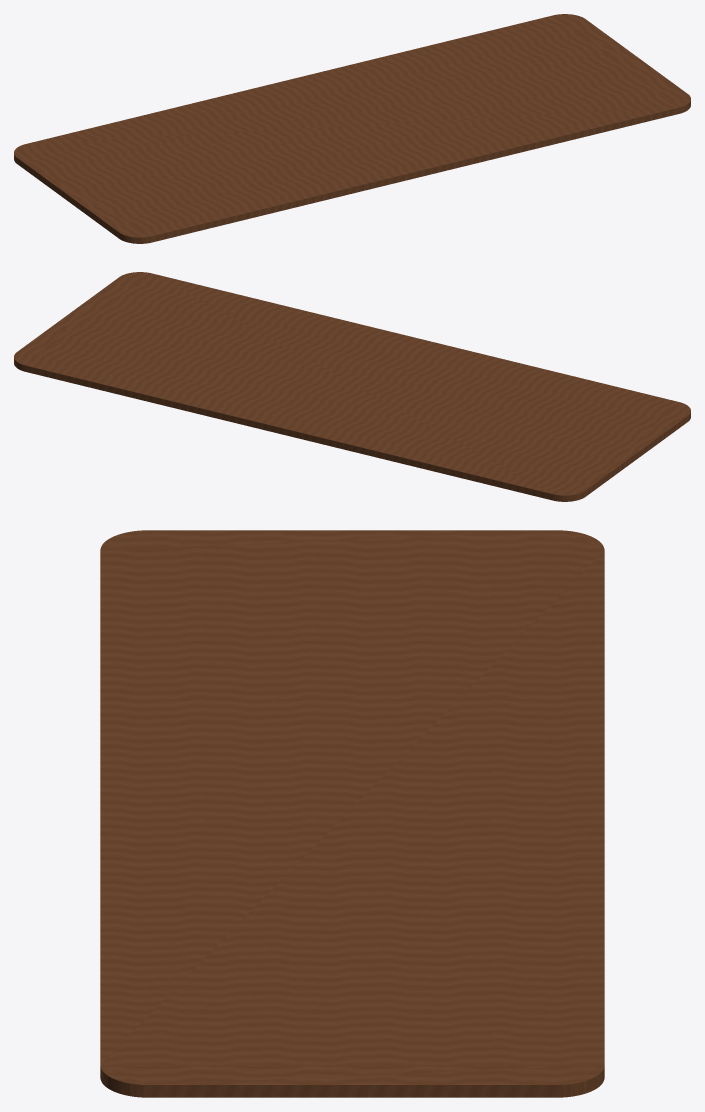
The model's file is QUIET_RETAINED_CANOPY_RAISE_r001.glb.
3 renders of one model, top to bottom at view 1: azimuth 30°, elevation 25°; view 2: azimuth 150°, elevation 25°; view 3: azimuth 270°, elevation 25°, orthographic. The views are drawn at different scales.
Visible parts, largest first — view 1: QG_Batch_171; view 2: QG_Batch_171; view 3: QG_Batch_171.
Boxes of the visible parts, bbox=[...] form: QG_Batch_171: bbox=[14, 14, 690, 243]; QG_Batch_171: bbox=[14, 272, 690, 501]; QG_Batch_171: bbox=[100, 530, 604, 1097].
Bounding box in the file's own units: 15.1 × 0.2 × 5.8.
Materials: 2 (2 with a texture image).
